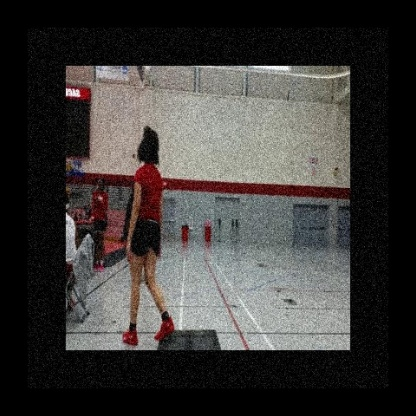lateral_flexion_right: (122, 119, 177, 350)
stance_width_broad: (122, 158, 177, 350)
